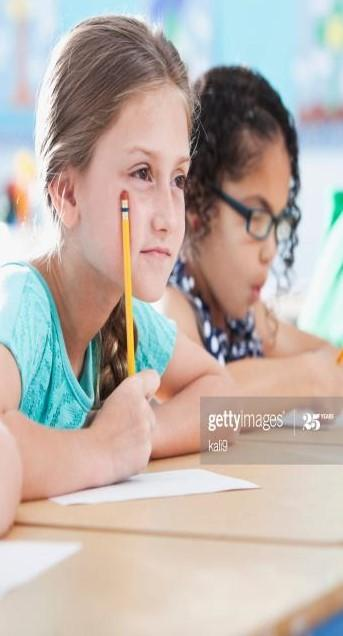good: (7, 9, 343, 511)
